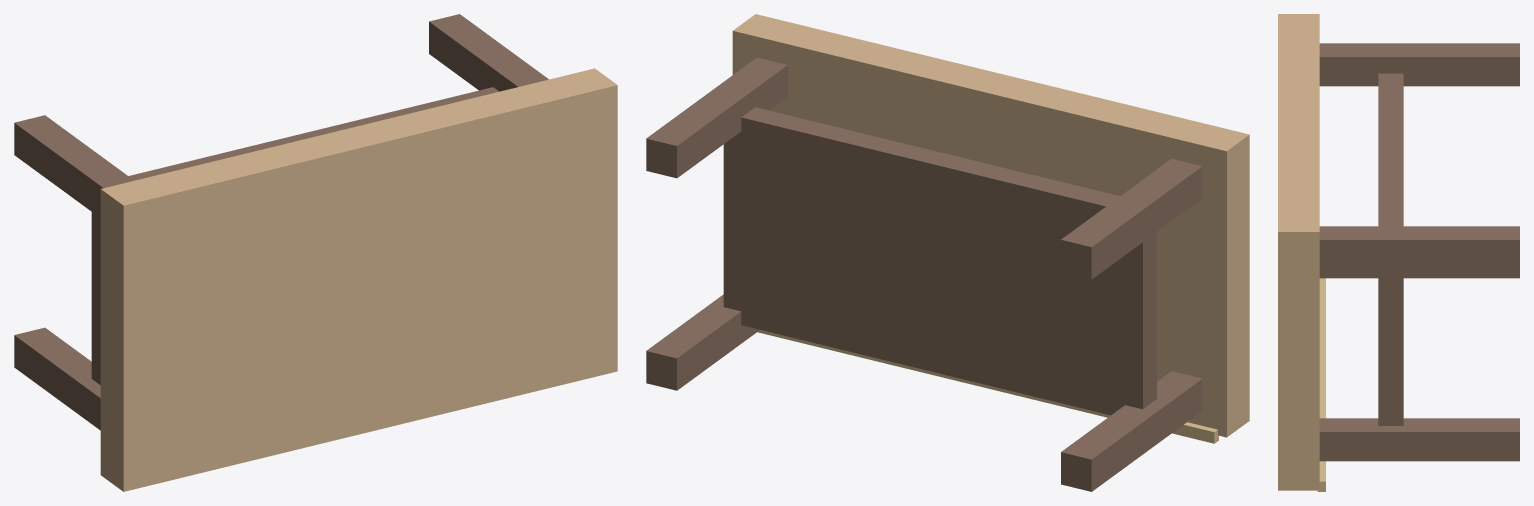
File: coffee_table.glb
3 views of the same model, side by side, from view 1: azimuth 30°, elevation 25°; view 2: azimuth 150°, elevation 25°; view 3: azimuth 270°, elevation 25° (orthographic). The views are drawn at different scales.
Parts seen in each view (by area): view 1: part_0, part_3, part_5, part_2, part_1; view 2: part_1, part_0, part_3, part_5, part_2, part_4, part_6; view 3: part_0, part_5, part_4, part_3, part_1, part_2, part_6.
Part boxes in pixels (x1=…): part_0: x1=100, y1=68, x2=617, y2=491; part_3: x1=14, y1=115, x2=133, y2=217; part_5: x1=429, y1=14, x2=548, y2=91; part_2: x1=14, y1=327, x2=100, y2=430; part_1: x1=91, y1=87, x2=498, y2=384; part_1: x1=723, y1=107, x2=1156, y2=415; part_0: x1=732, y1=14, x2=1249, y2=437; part_3: x1=1061, y1=158, x2=1202, y2=279; part_5: x1=646, y1=57, x2=787, y2=178; part_2: x1=1061, y1=371, x2=1202, y2=491; part_4: x1=646, y1=294, x2=759, y2=390; part_6: x1=757, y1=330, x2=1218, y2=443; part_0: x1=1278, y1=14, x2=1319, y2=490; part_5: x1=1319, y1=226, x2=1519, y2=269; part_4: x1=1319, y1=418, x2=1519, y2=461; part_3: x1=1319, y1=43, x2=1519, y2=86; part_1: x1=1378, y1=73, x2=1403, y2=425; part_2: x1=1319, y1=269, x2=1519, y2=278; part_6: x1=1317, y1=278, x2=1325, y2=491.
Size of the model in its own units: 1.12 by 0.6325 by 0.525.
